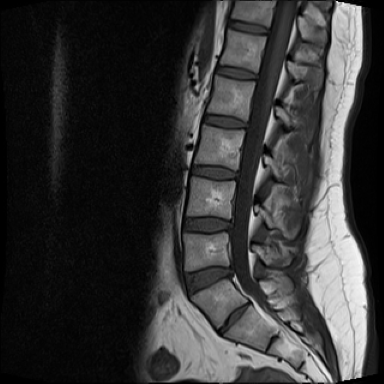Lumbar Disc Bulge (LDB): (180, 260, 240, 302)
Normal IVD: (176, 216, 238, 236), (201, 111, 251, 134), (214, 63, 261, 85), (185, 165, 242, 181), (225, 18, 275, 36)
Spinal Stenosis (SS): (224, 262, 239, 283)
